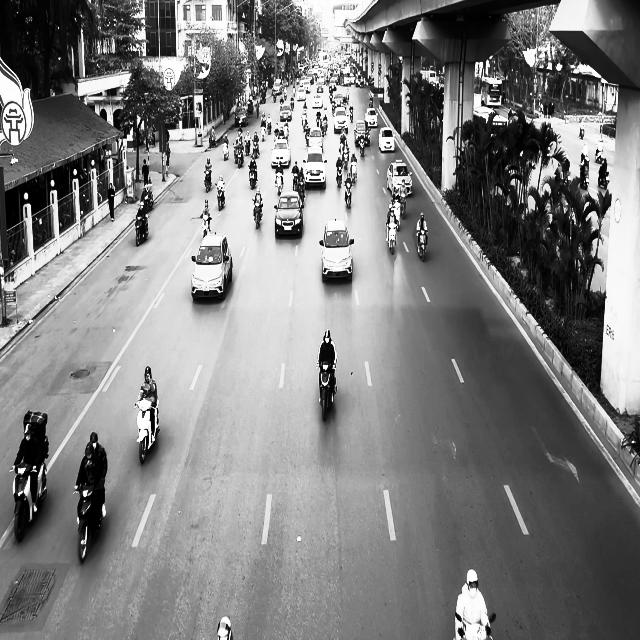bus: (481, 77, 503, 107)
car: (190, 232, 232, 300), (319, 219, 354, 280), (274, 191, 304, 238), (302, 146, 328, 189), (386, 159, 413, 197), (271, 138, 291, 168), (378, 127, 395, 152), (354, 120, 370, 146), (234, 107, 248, 127), (364, 108, 378, 127)
motorbike: (10, 458, 48, 542), (73, 480, 106, 563), (134, 400, 160, 463), (317, 360, 337, 420), (454, 612, 496, 640), (135, 213, 149, 246), (386, 219, 398, 254), (416, 229, 428, 261), (252, 198, 263, 229), (216, 184, 225, 210), (344, 179, 352, 208), (201, 214, 211, 237), (248, 164, 257, 188), (275, 169, 283, 195), (204, 171, 212, 192), (222, 142, 229, 160)
